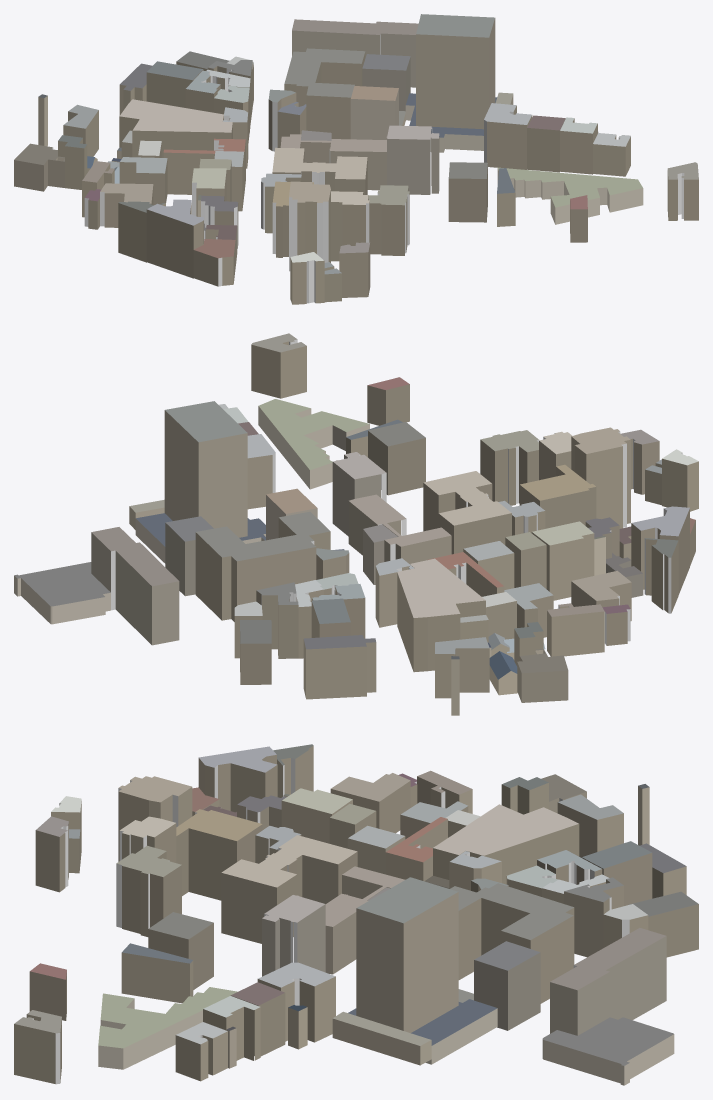
The picture shows the model from 3 angles, top to bottom: view 1: azimuth 30°, elevation 25°; view 2: azimuth 150°, elevation 25°; view 3: azimuth 270°, elevation 25°; orthographic projection. The views are drawn at different scales.
Parts seen in each view (by area): view 1: tuile; view 2: tuile; view 3: tuile.
Part boxes in pixels (x1,y1,x2,y2): tuile: [14, 14, 698, 304]; tuile: [14, 333, 698, 715]; tuile: [14, 744, 698, 1085].
Bounding box in the file's own units: 266 × 60.9 × 264.
